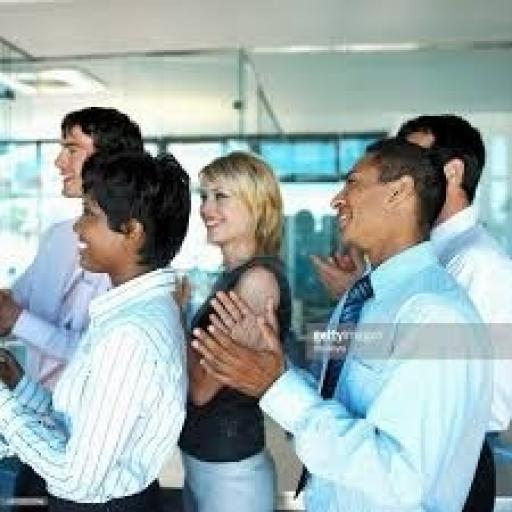clapping: (194, 134, 498, 510), (0, 145, 193, 509), (173, 148, 296, 510)
